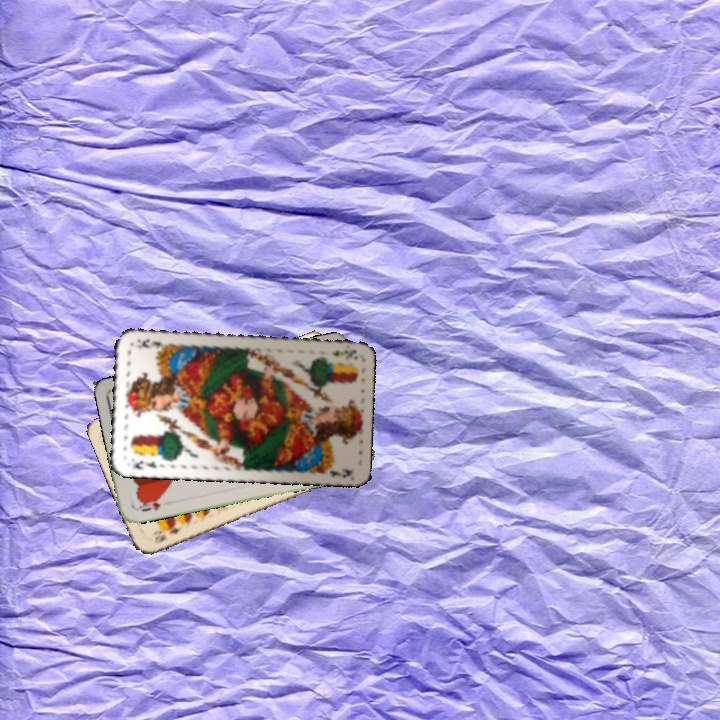E10: (150, 520, 185, 546)
EK: (329, 345, 359, 361), (129, 457, 160, 472)
HO: (133, 494, 163, 514)
